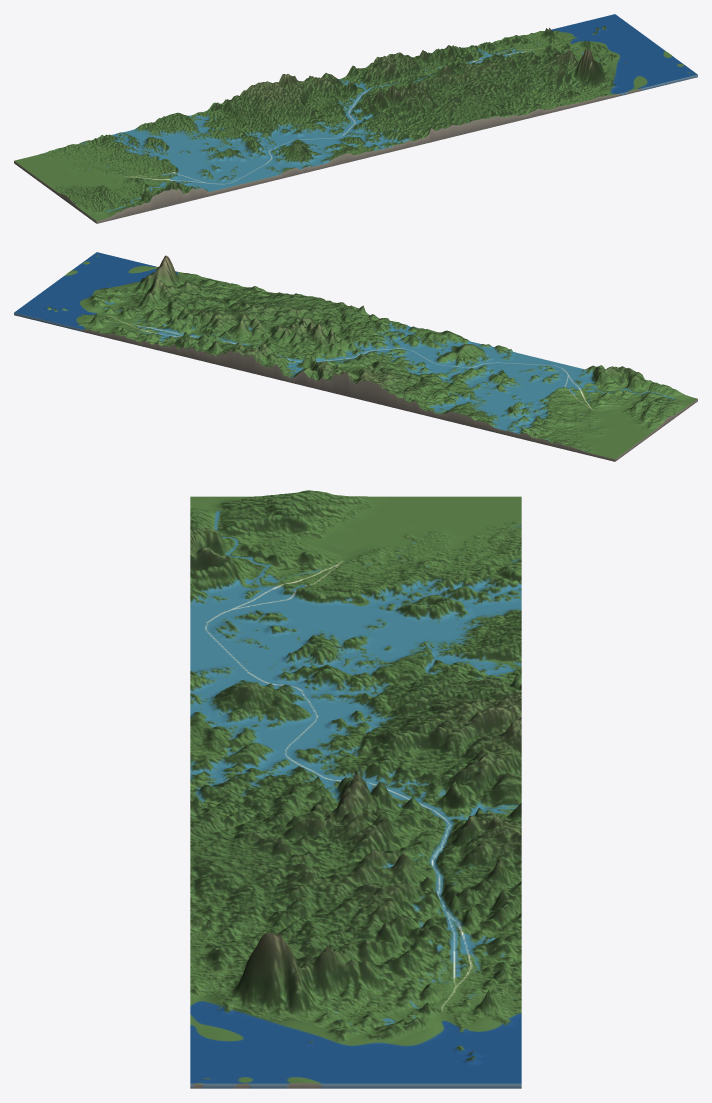
Rendered from osm-panama-canal-strip.glb.
3 renders of one model, top to bottom at view 1: azimuth 30°, elevation 25°; view 2: azimuth 150°, elevation 25°; view 3: azimuth 270°, elevation 25°, orthographic. The views are drawn at different scales.
Parts seen in each view (by area): view 1: Panama Canal strip; view 2: Panama Canal strip; view 3: Panama Canal strip.
Part boxes in pixels (x1,y1,x2,y2): Panama Canal strip: [14, 14, 697, 223]; Panama Canal strip: [14, 252, 697, 461]; Panama Canal strip: [190, 490, 521, 1088].
Size of the model in its own units: 73373 by 4059 by 17500.
2 materials, 1 textured.
